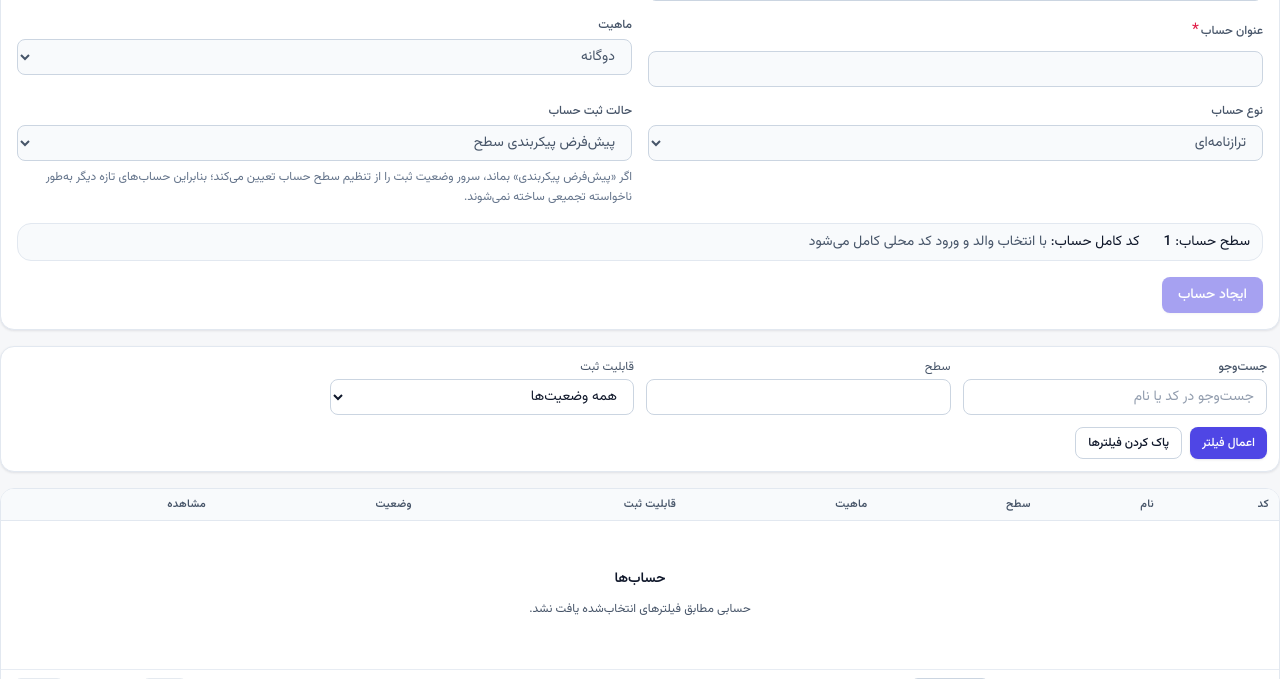
Test: Accounts URL-owned filters › keeps Apply and Clear synchronized with URL and controls
(page scrolled)
Type "bank" into the field labelled "جست‌وجو".
click(1115, 397); type("bank")  # box 962,379 -> 1267,415
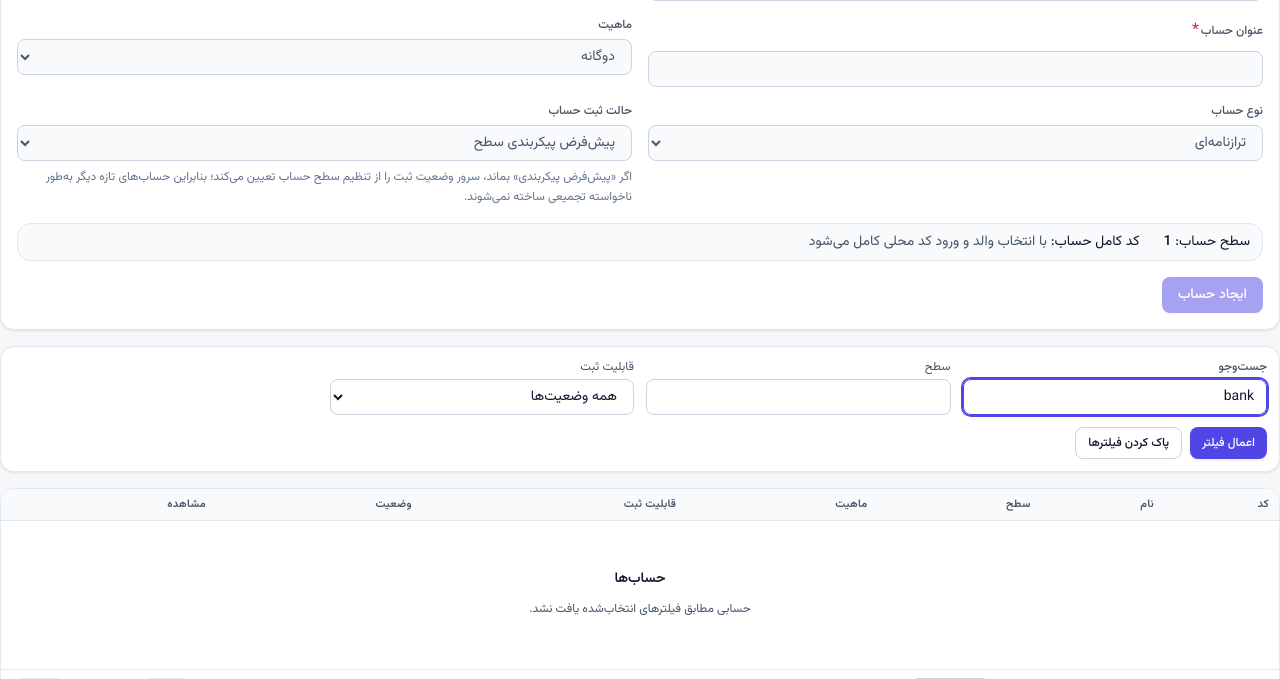
Type "2" into the number field labelled "سطح".
click(798, 397); type("2")  # box 646,379 -> 950,415
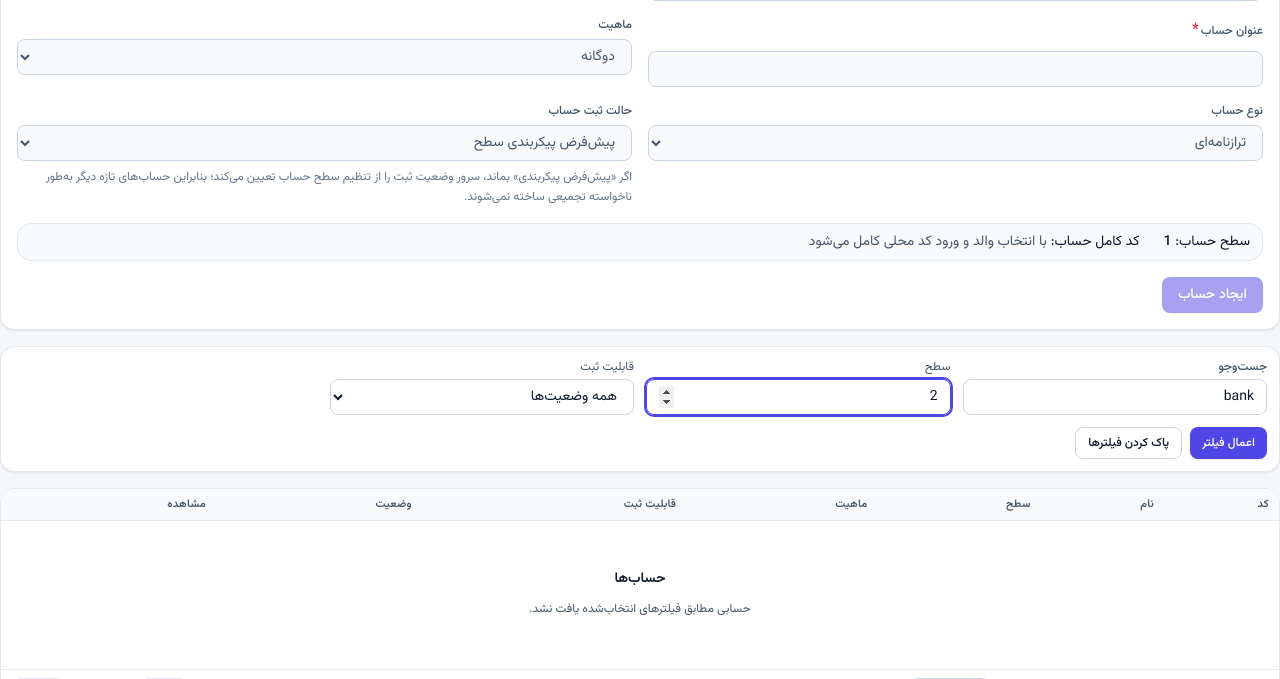
Select "تجمیعی" in the dropdown labelled "قابلیت ثبت" at (482, 397), box 330,379 -> 634,415
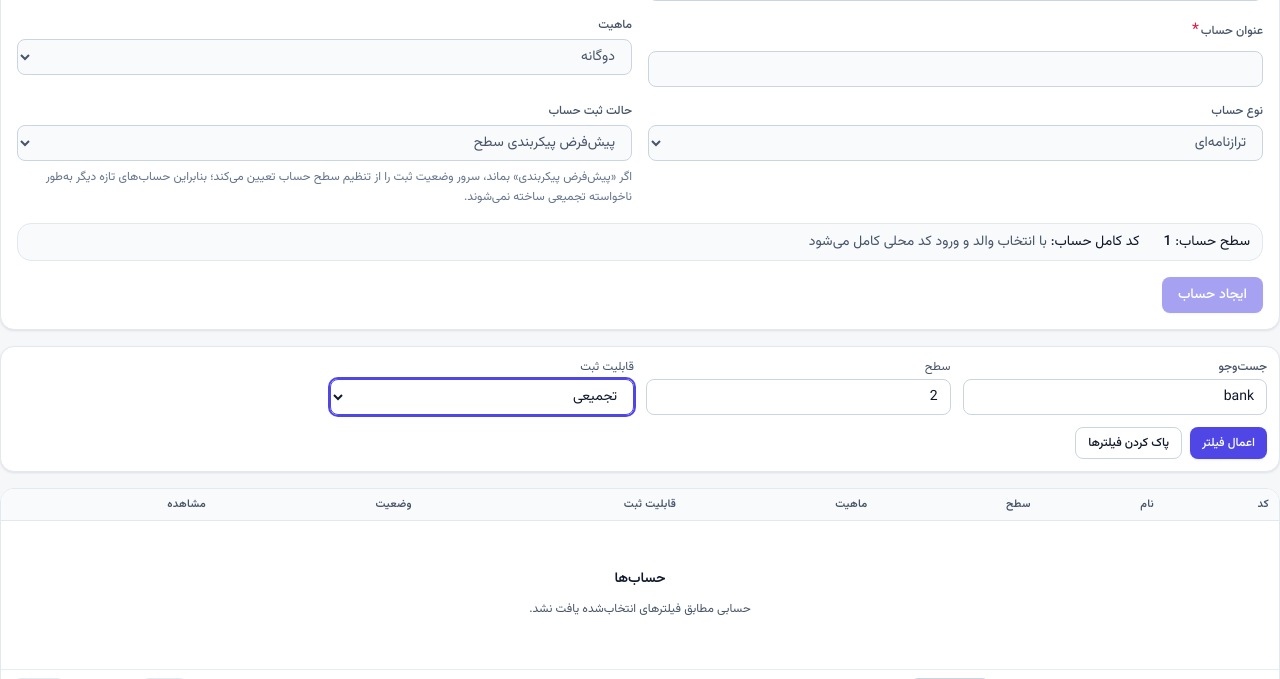
Click the button "اعمال فیلتر".
click(1228, 443)  # box 1190,427 -> 1267,459
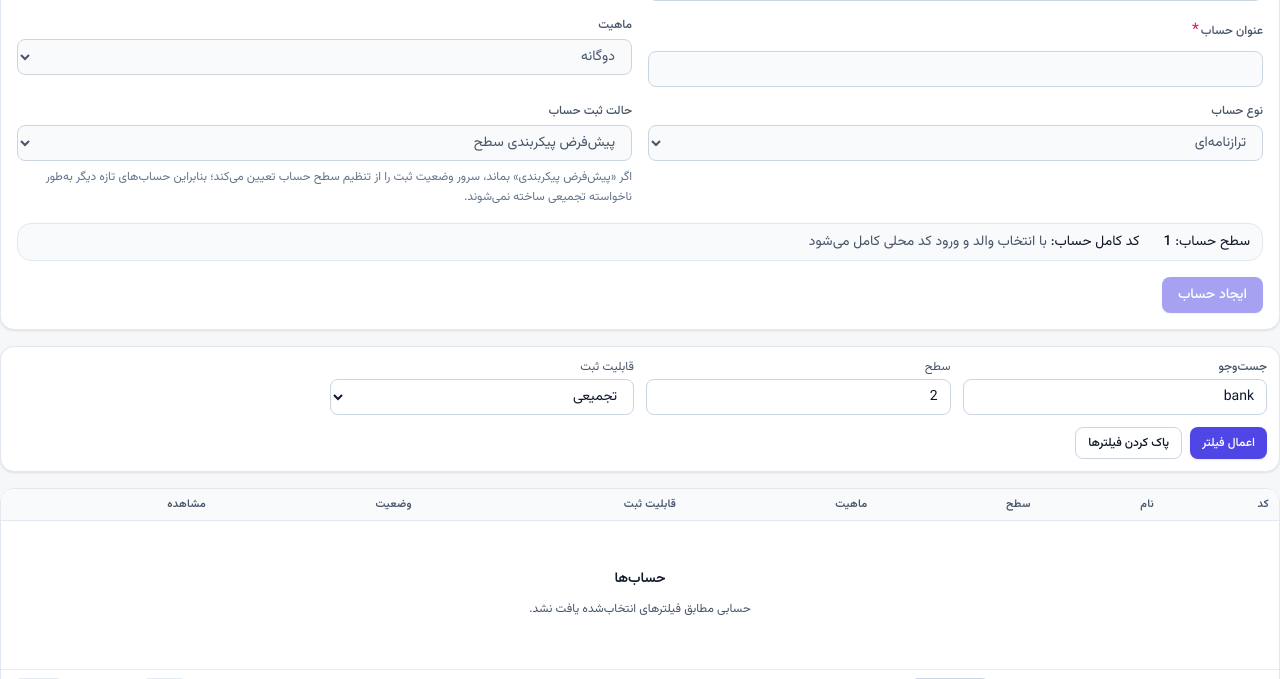
expect the field labelled "جست‌وجو" holds "bank": met, box 962,379 -> 1267,415
expect the number field labelled "سطح" holds "2": met, box 646,379 -> 950,415
expect the dropdown labelled "قابلیت ثبت" shows "تجمیعی": met, box 330,379 -> 634,415
Click the button "پاک کردن فیلترها".
click(1129, 443)  # box 1075,427 -> 1182,459
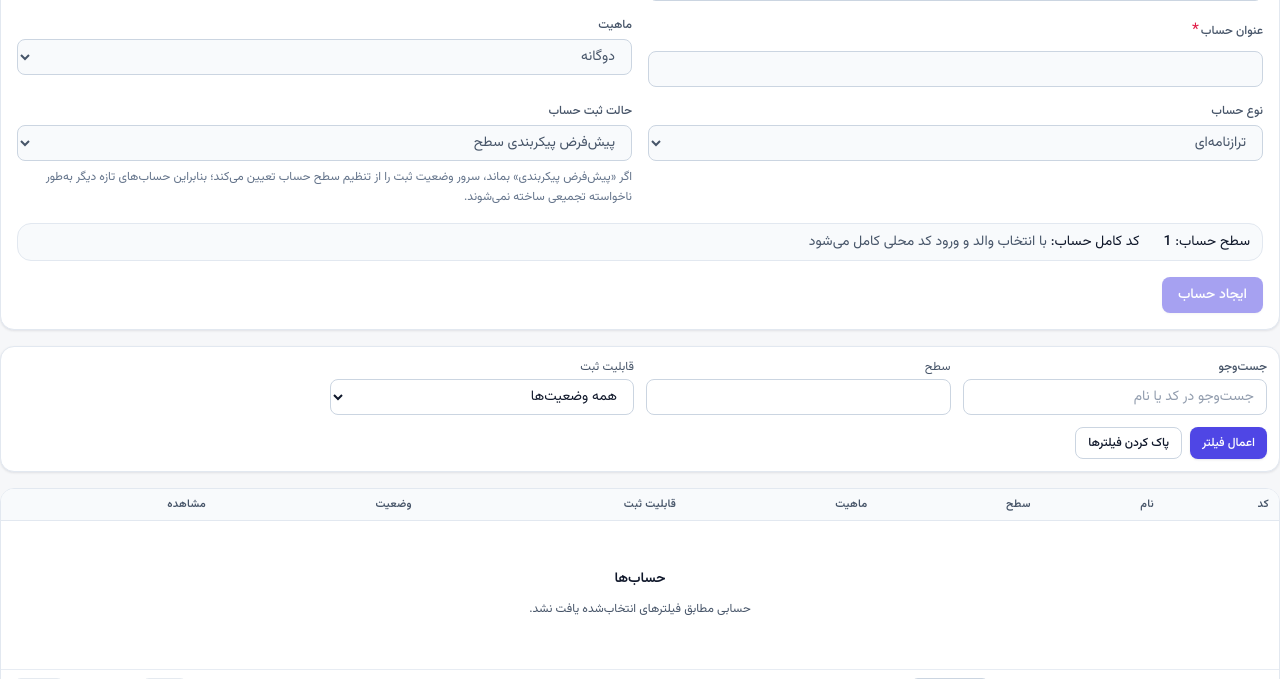
expect the field labelled "جست‌وجو" is empty: met, box 962,379 -> 1267,415
expect the number field labelled "سطح" is not empty: met, box 646,379 -> 950,415
expect the dropdown labelled "قابلیت ثبت" shows "همه وضعیت‌ها": met, box 330,379 -> 634,415
